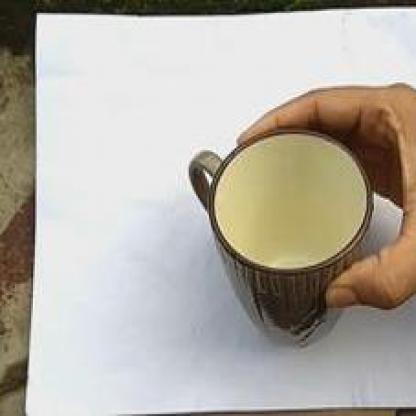mug: (155, 113, 377, 370)
